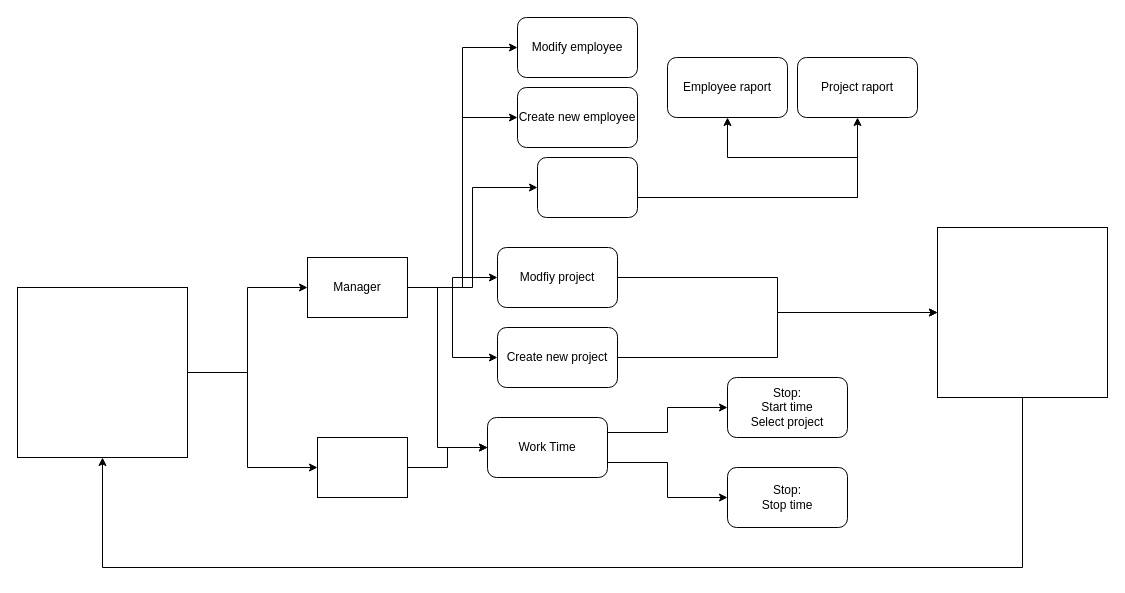
Some shapes in this 1125 by 593 pixel diagram are drawn without their labels. The centre of each missing label's shape, as x and y in pixels:
Generate raport: the point at 587,187
Pracownik: ID: Name: Surname: Position: Total time: Department: HourCost:: the point at 102,372
Projekt: ID: Name: Total time: Department: TotalCost:: the point at 1022,312
Worker: the point at 362,467
